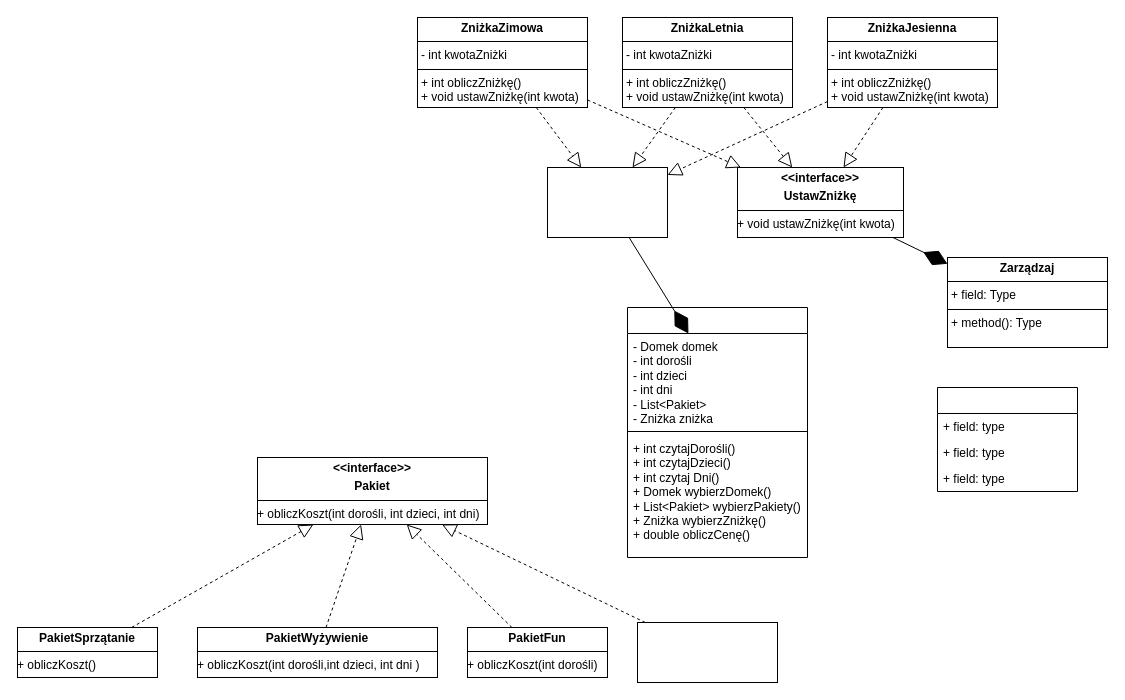
Image size: 1125x700. Some labels were removed from this diagram. The box of each missing label's shape, as (x1, y1, x2, y2) in pixels:
<<interface>> Zniżka + int obliczZniżkę(): (546, 166, 668, 238)
Classname: (936, 386, 1078, 492)
PakietDzieci + obliczKoszt(int dzieci): (636, 622, 778, 682)
Reserwuj: (626, 306, 808, 558)
